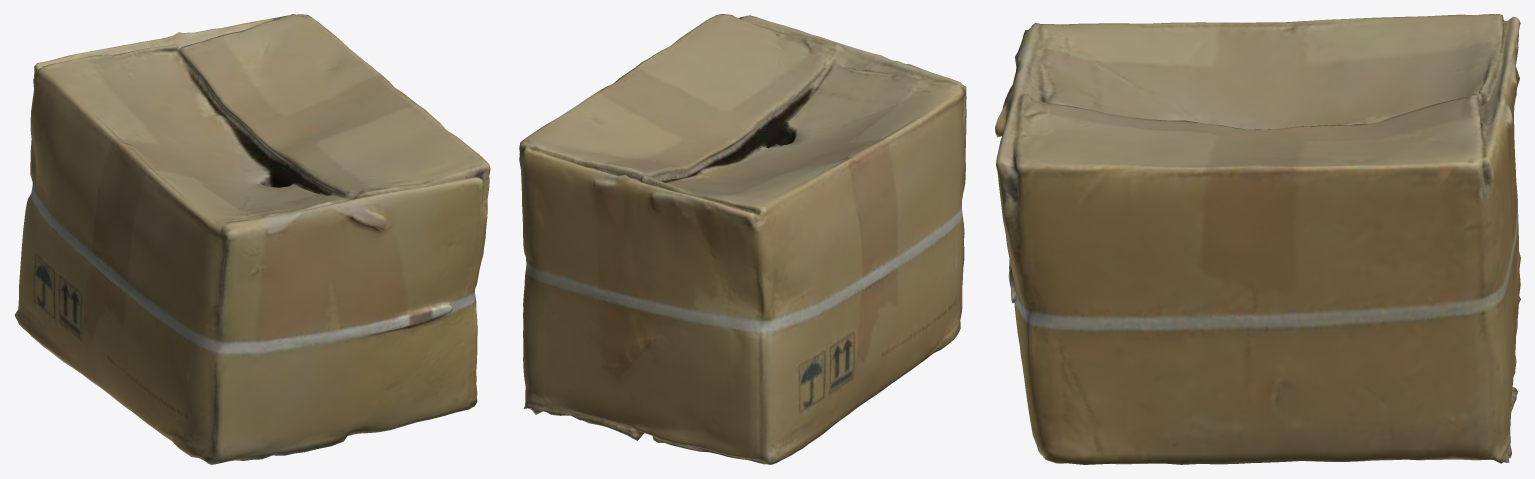
Rendered from cardboard_box_01.glb.
The picture shows the model from 3 angles, left to right: view 1: azimuth 30°, elevation 25°; view 2: azimuth 150°, elevation 25°; view 3: azimuth 270°, elevation 25°; orthographic projection. The views are drawn at different scales.
Parts seen in each view (by area): view 1: cardboard_box_01; view 2: cardboard_box_01; view 3: cardboard_box_01.
Part boxes in pixels (<box>): cardboard_box_01: <box>14,14,490,464</box>; cardboard_box_01: <box>519,14,966,464</box>; cardboard_box_01: <box>995,14,1520,464</box>.
Size of the model in its own units: 0.387 by 0.3418 by 0.5159.
Materials: 1 (1 with a texture image).
